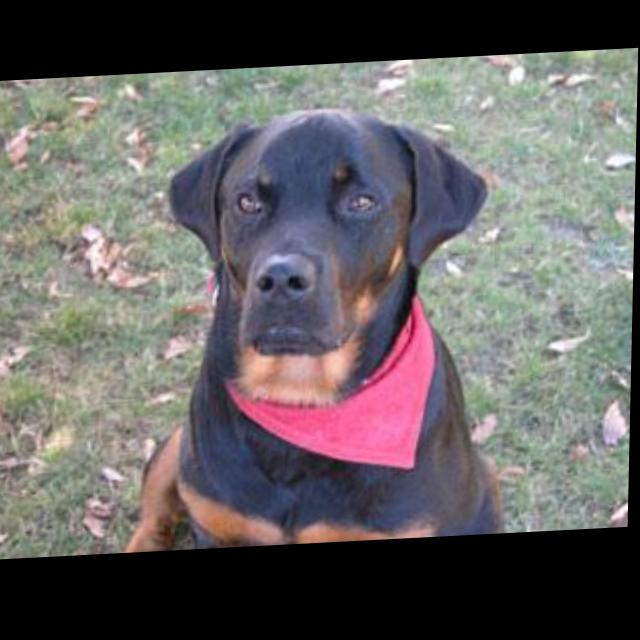rottweiler: (72, 101, 532, 558)
